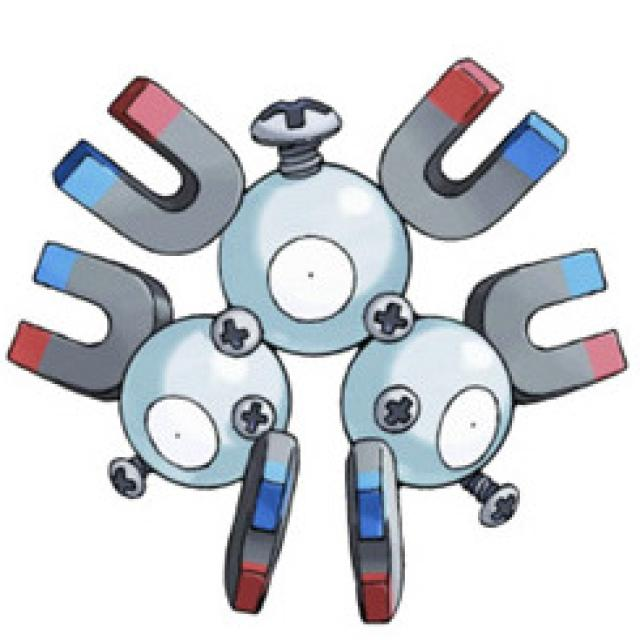Magneton: (62, 65, 544, 554)
